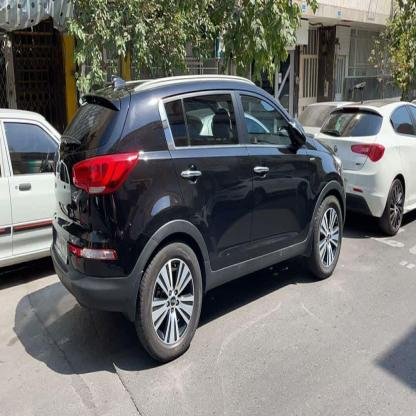Car: (57, 83, 341, 354), (316, 84, 416, 242), (0, 99, 82, 275)
